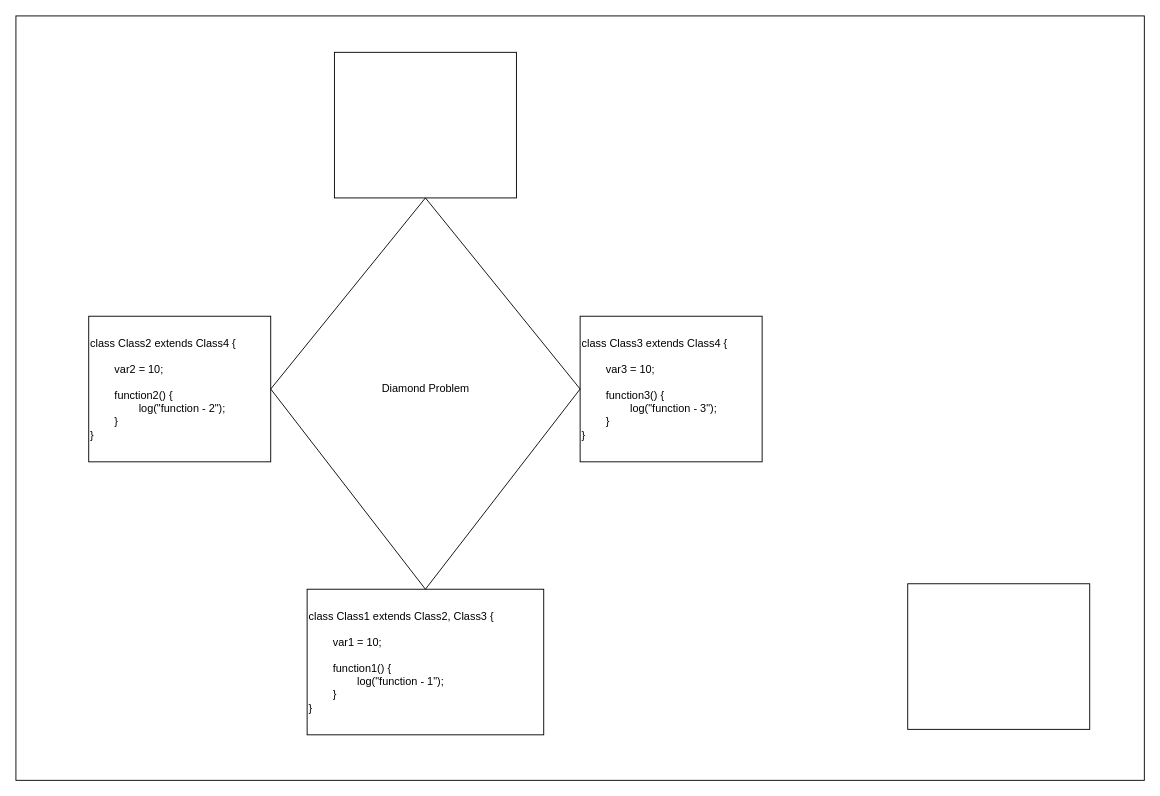
This 1160x796 diagram has some shape labels left out. Here are the shapes that lost their labels. From the top down, the centre of each, then its label:
point (425, 124): class Class4 { var4 = 10; function4() { log("function - 4"); } }
point (998, 656): const c1 = new Class1(); c1.function4();
